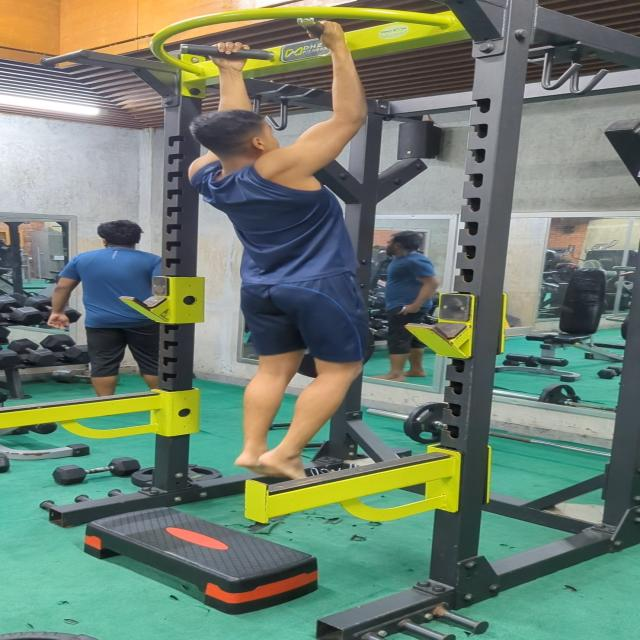Normal_PullUps: (175, 18, 379, 494)
